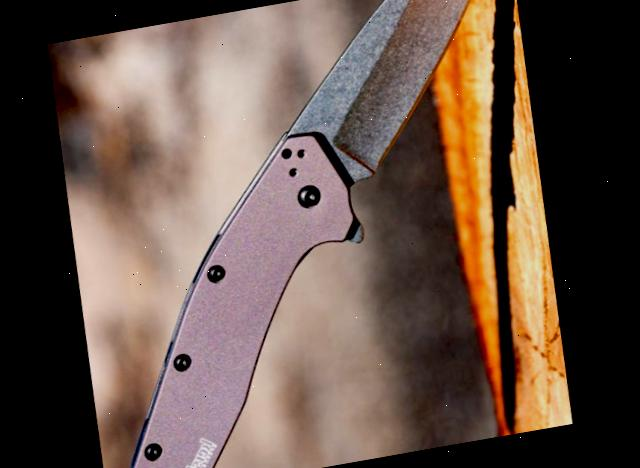pocket-knife: (50, 0, 591, 468)
